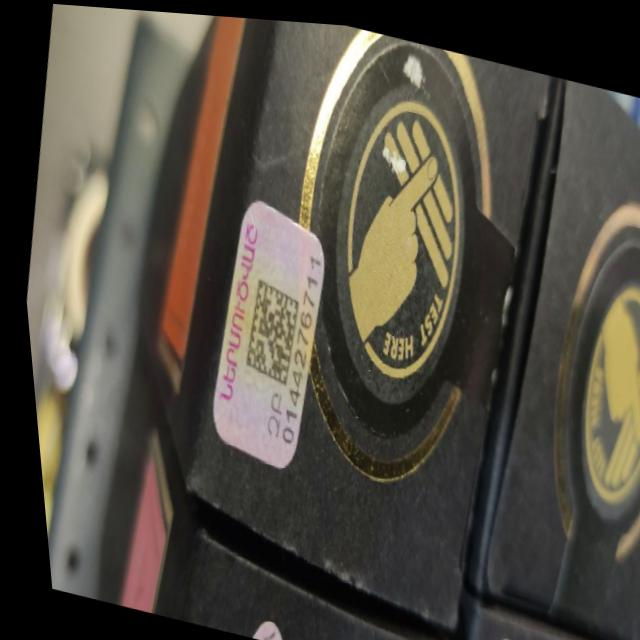datamatrix: (228, 266, 307, 395)
